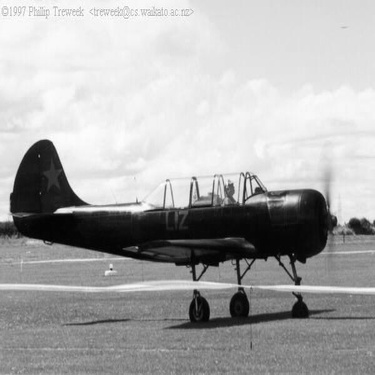airplane: (7, 124, 349, 334)
